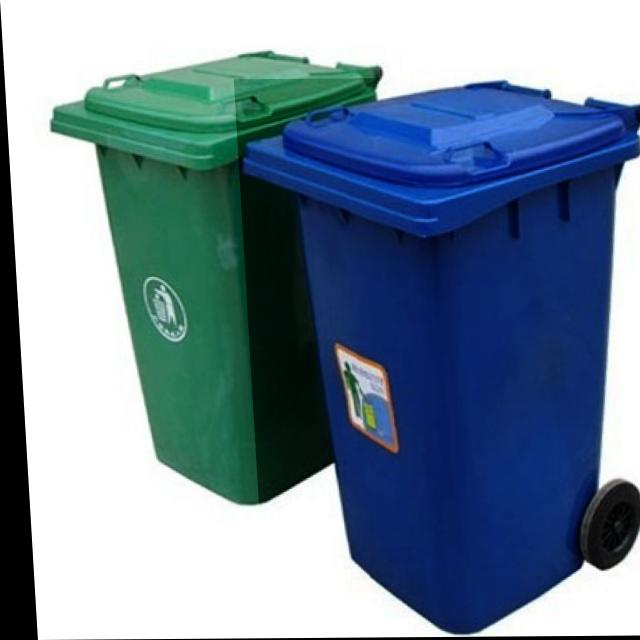garbage_bin: (233, 77, 640, 637), (43, 48, 399, 505)
